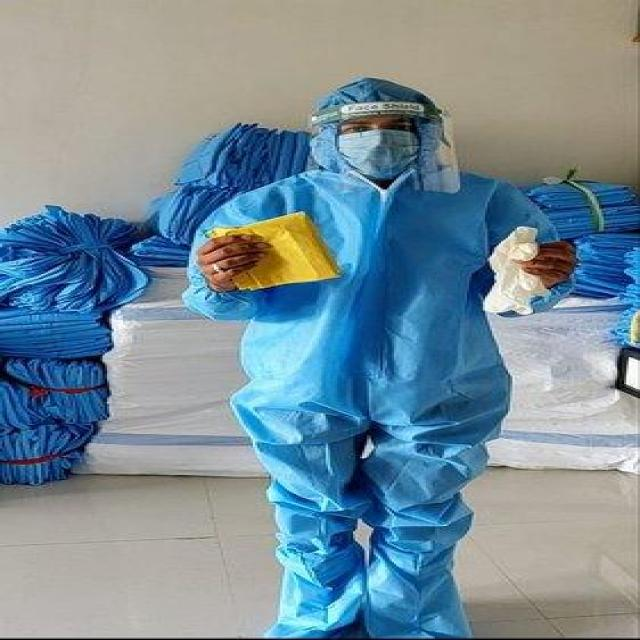Coverall: (176, 73, 588, 639)
Mask: (326, 129, 431, 173)
